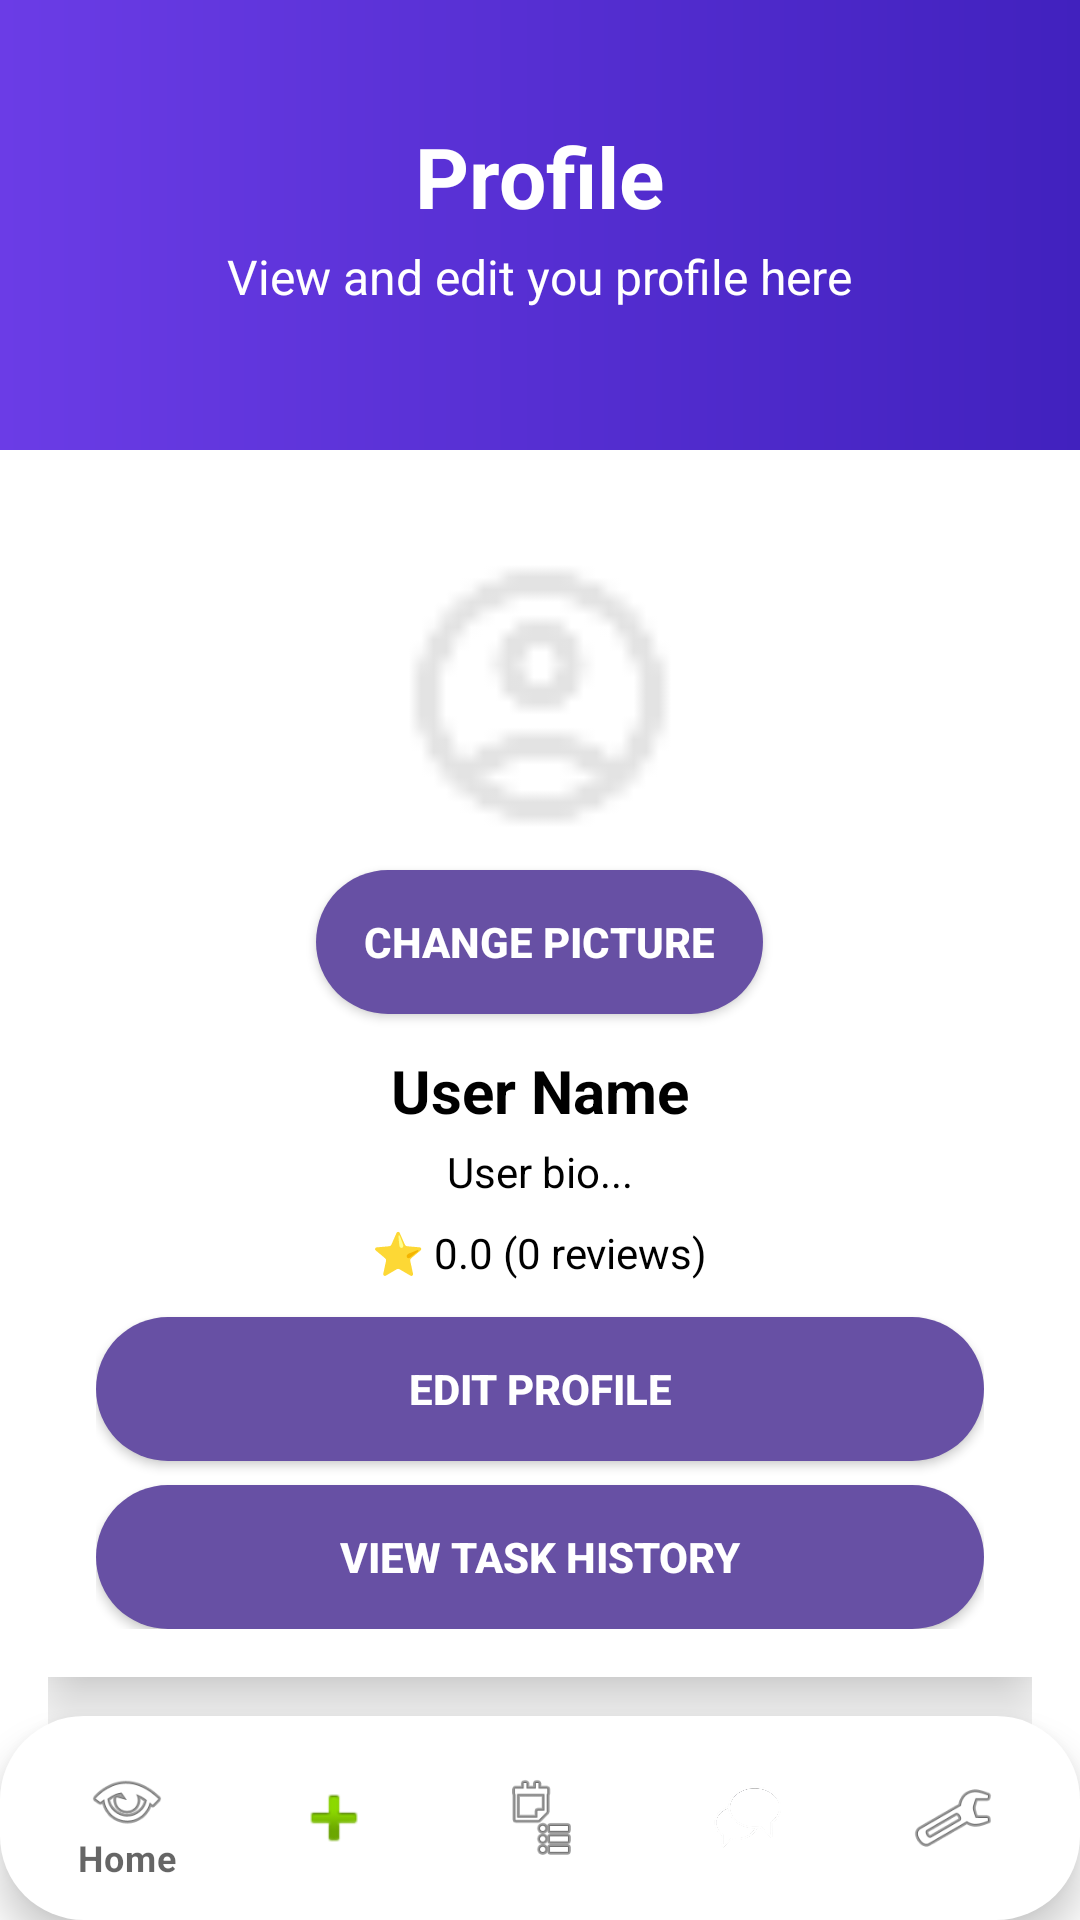

Icons on this 1080×1920 Android screen, each with the point to tap as [x,y]:
profile: [540,696]
